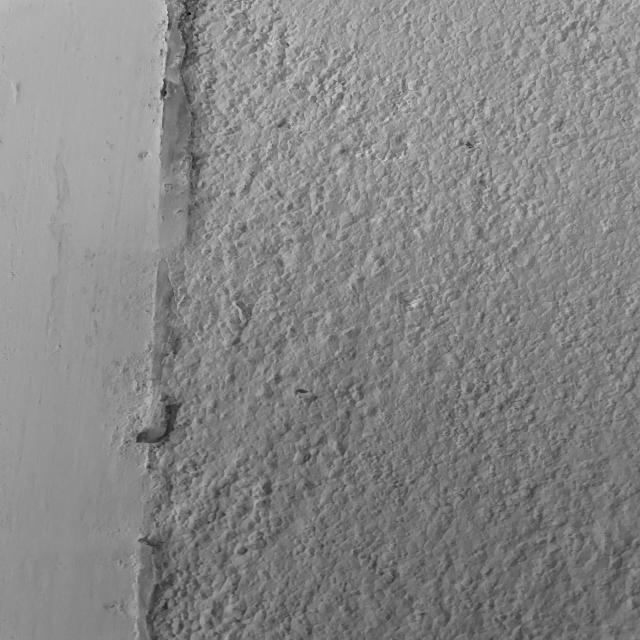rough and patchy surface: (131, 0, 640, 640)
